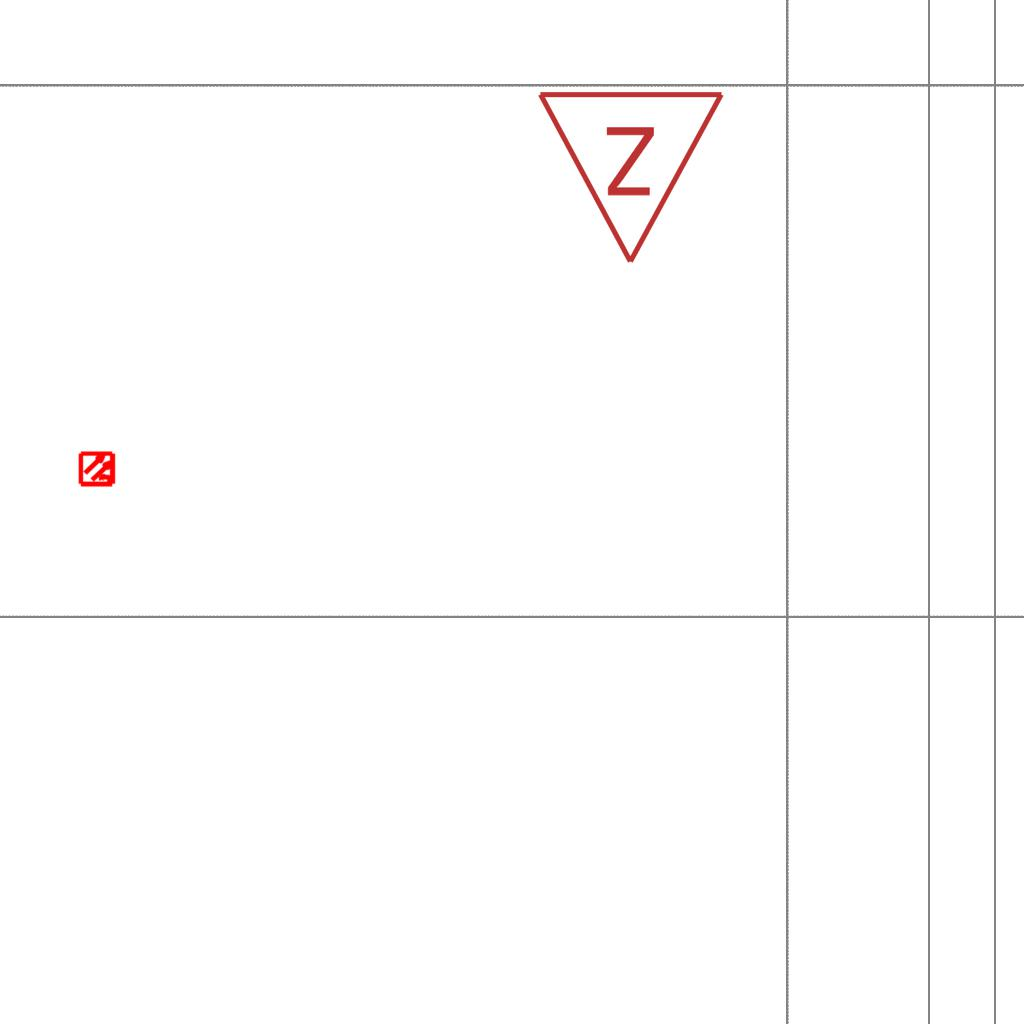OT_Multisensormelder_(Kombination_RMO_WMD): (70, 441, 126, 497)
Zimmersignalleuchte: (535, 77, 731, 277)
